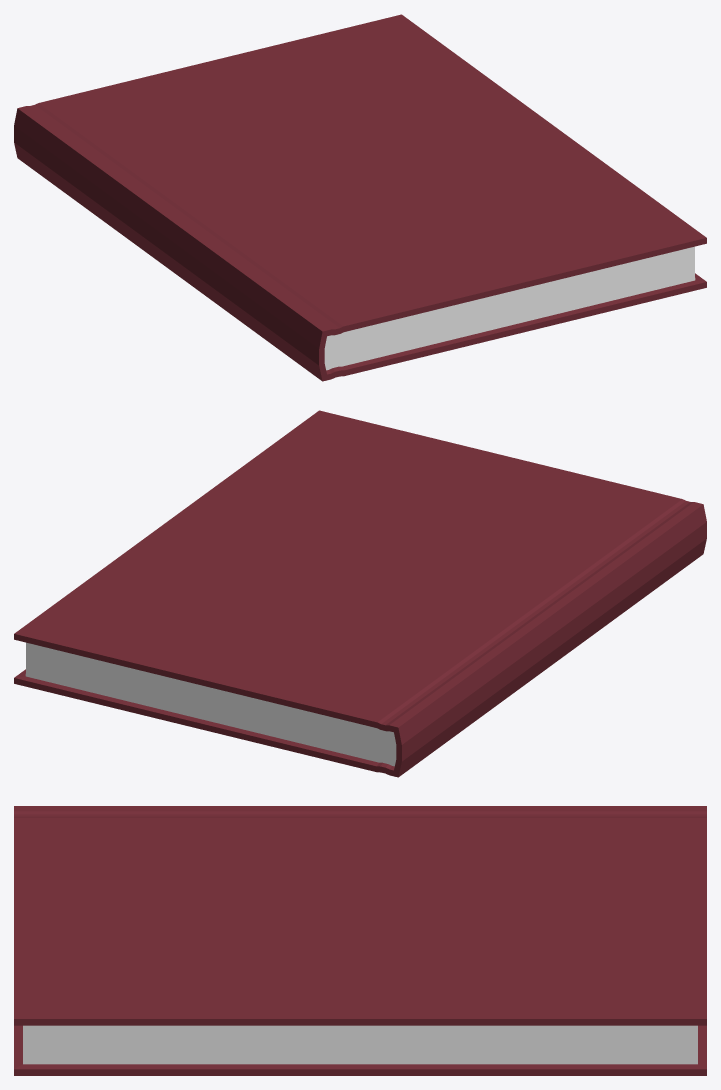
Rendered from book.fbx.
3 views of the same model, one above another, from view 1: azimuth 30°, elevation 25°; view 2: azimuth 150°, elevation 25°; view 3: azimuth 270°, elevation 25° (orthographic). The views are drawn at different scales.
Parts seen in each view (by area): view 1: Architexture; view 2: Architexture; view 3: Architexture.
Part boxes in pixels (box(x1,y1,x2,y2)): Architexture: box(14, 14, 706, 381); Architexture: box(14, 410, 706, 777); Architexture: box(14, 806, 706, 1075).
Bounding box in the file's own units: 73.38 × 9.04 × 100.
